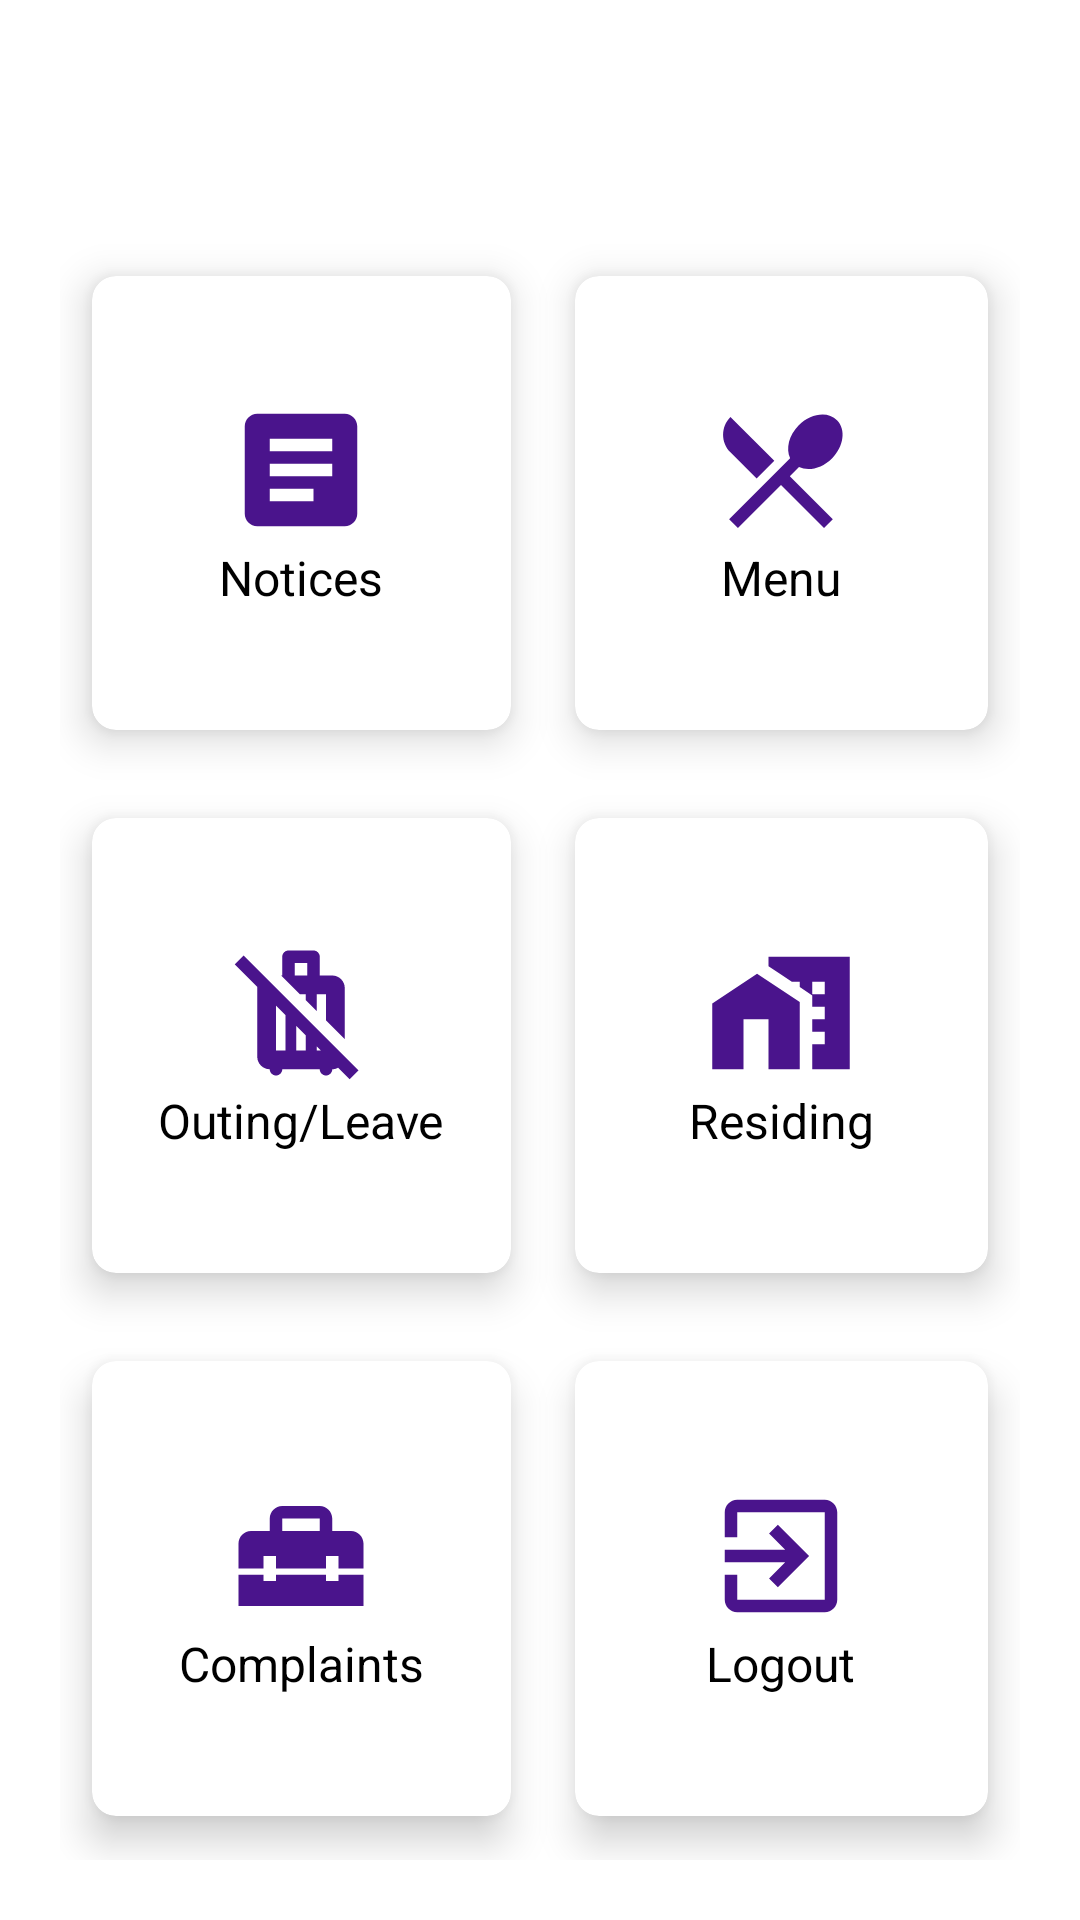

Screen size 1080px x 1920px. Icon name, then its center in pixels as (x=x, y=y):
article: (x=301, y=470)
exit to app: (x=781, y=1556)
home repair service: (x=301, y=1556)
home work: (x=781, y=1013)
leave bags at home: (x=297, y=1014)
